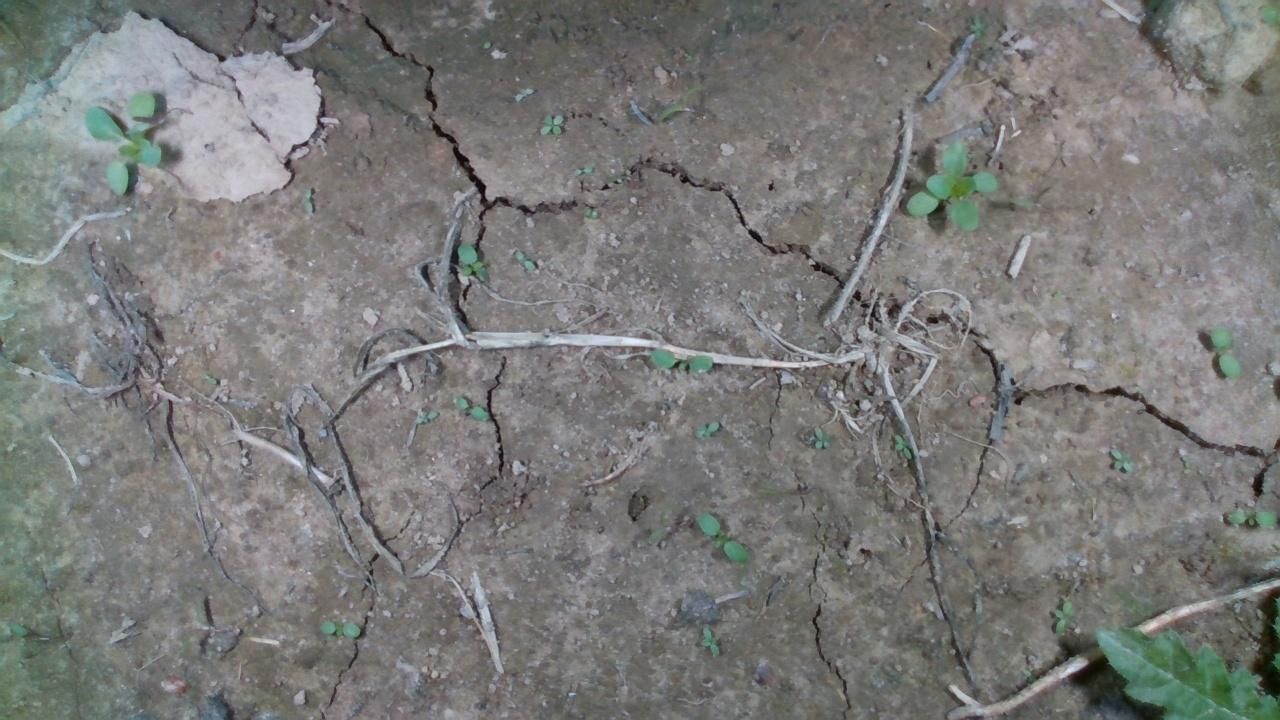weed: (690, 510, 757, 573), (446, 239, 506, 299), (1203, 320, 1246, 389), (449, 388, 497, 436), (1230, 495, 1270, 547), (1106, 439, 1149, 480), (647, 348, 713, 372), (317, 613, 367, 644), (695, 620, 726, 667), (1053, 597, 1077, 644), (808, 419, 828, 466), (693, 412, 720, 445), (539, 109, 561, 140), (570, 158, 595, 185)
